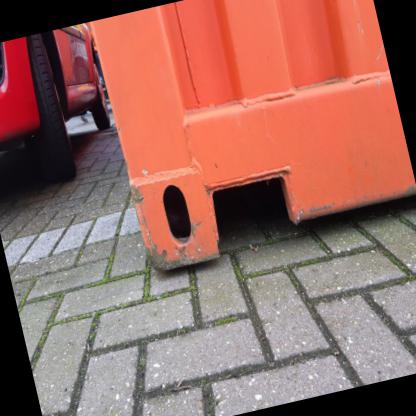CornerCasting: (118, 151, 235, 284)
